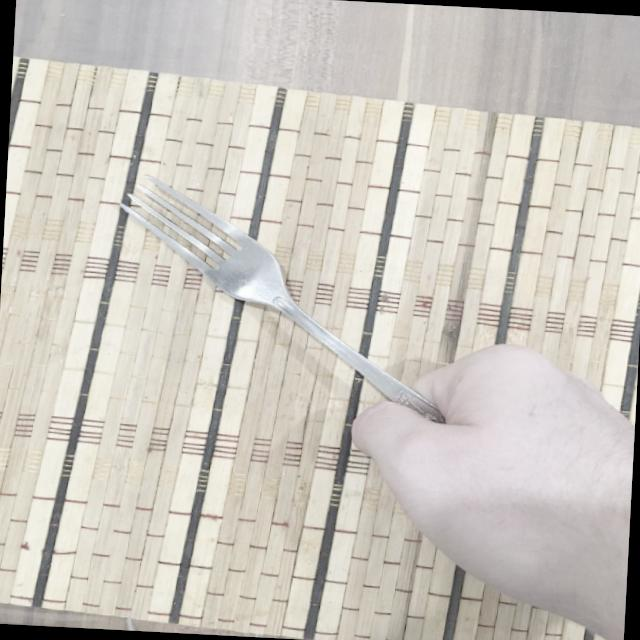fork: (100, 172, 502, 434)
